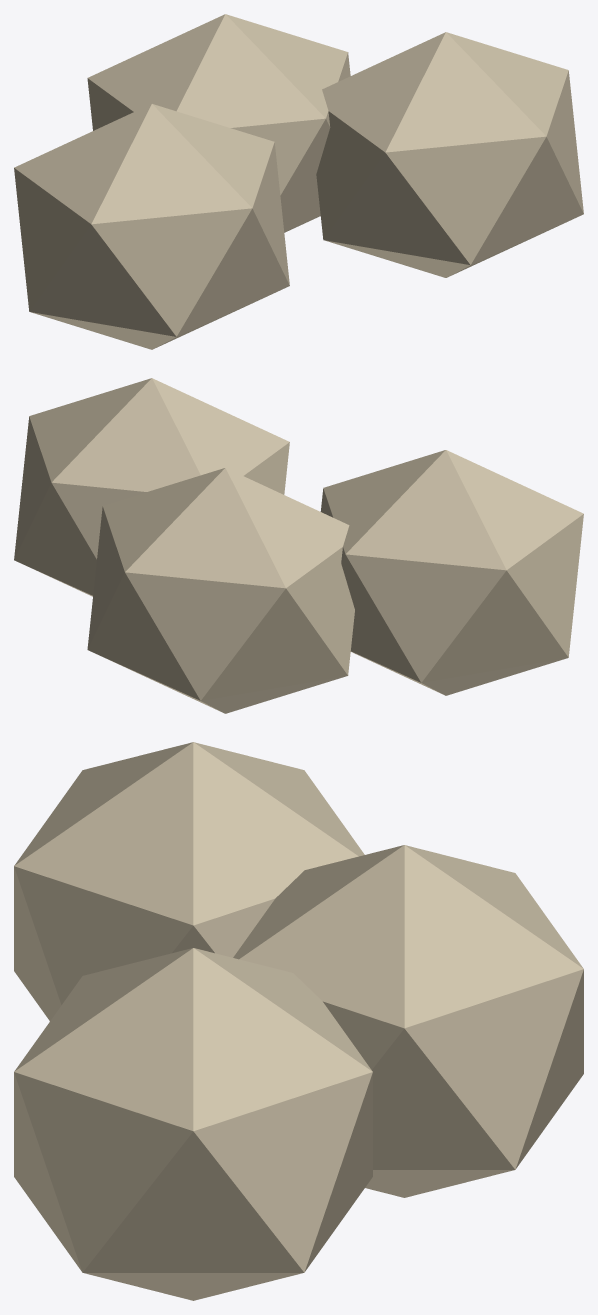
The model's file is stones.glb.
3 views of the same model, one above another, from view 1: azimuth 30°, elevation 25°; view 2: azimuth 150°, elevation 25°; view 3: azimuth 270°, elevation 25° (orthographic). The views are drawn at different scales.
Visible parts, largest first — view 1: Mesh_stones_stone; view 2: Mesh_stones_stone; view 3: Mesh_stones_stone.
Boxes of the visible parts, x1,y1,x2,y2 form: Mesh_stones_stone: (14,14,583,349); Mesh_stones_stone: (14,378,583,713); Mesh_stones_stone: (14,742,583,1300).
Bounding box in the file's own units: 0.5504 × 0.24 × 0.3512.
